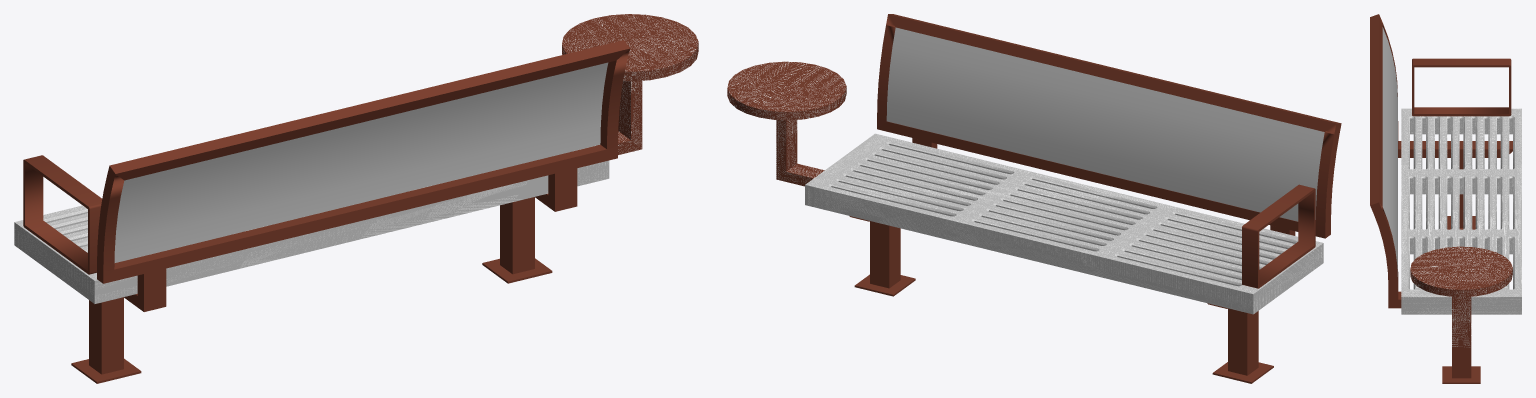
3 views of the same model, side by side, from view 1: azimuth 30°, elevation 25°; view 2: azimuth 150°, elevation 25°; view 3: azimuth 270°, elevation 25° (orthographic). The views are drawn at different scales.
Visible parts, largest first — view 1: mesh21_mesh21-geometry, mesh19_mesh19-geometry, mesh4_mesh4-geometry, mesh10_mesh10-geometry, mesh1_mesh1-geometry, mesh5_mesh5-geometry, mesh11_mesh11-geometry, mesh17_mesh17-geometry, mesh15_mesh15-geometry; view 2: mesh21_mesh21-geometry, mesh4_mesh4-geometry, mesh19_mesh19-geometry, mesh10_mesh10-geometry, mesh1_mesh1-geometry, mesh5_mesh5-geometry, mesh17_mesh17-geometry, mesh15_mesh15-geometry; view 3: mesh4_mesh4-geometry, mesh10_mesh10-geometry, mesh21_mesh21-geometry, mesh19_mesh19-geometry, mesh5_mesh5-geometry, mesh1_mesh1-geometry, mesh15_mesh15-geometry, mesh11_mesh11-geometry.
Boxes of the visible parts, bbox=[...] form: mesh21_mesh21-geometry: bbox=[114, 62, 608, 262]; mesh19_mesh19-geometry: bbox=[103, 40, 629, 283]; mesh4_mesh4-geometry: bbox=[14, 145, 609, 303]; mesh10_mesh10-geometry: bbox=[562, 14, 698, 154]; mesh1_mesh1-geometry: bbox=[71, 197, 552, 383]; mesh5_mesh5-geometry: bbox=[23, 155, 102, 274]; mesh11_mesh11-geometry: bbox=[124, 168, 577, 311]; mesh17_mesh17-geometry: bbox=[97, 166, 124, 283]; mesh15_mesh15-geometry: bbox=[600, 49, 629, 157]; mesh21_mesh21-geometry: bbox=[886, 27, 1324, 221]; mesh4_mesh4-geometry: bbox=[805, 133, 1323, 314]; mesh19_mesh19-geometry: bbox=[877, 14, 1340, 238]; mesh10_mesh10-geometry: bbox=[727, 61, 846, 186]; mesh1_mesh1-geometry: bbox=[854, 221, 1273, 383]; mesh5_mesh5-geometry: bbox=[1242, 184, 1315, 288]; mesh17_mesh17-geometry: bbox=[1315, 123, 1341, 238]; mesh15_mesh15-geometry: bbox=[877, 14, 895, 128]; mesh4_mesh4-geometry: bbox=[1401, 108, 1521, 314]; mesh10_mesh10-geometry: bbox=[1410, 246, 1512, 347]; mesh21_mesh21-geometry: bbox=[1382, 27, 1397, 276]; mesh19_mesh19-geometry: bbox=[1370, 14, 1382, 205]; mesh5_mesh5-geometry: bbox=[1412, 58, 1511, 116]; mesh1_mesh1-geometry: bbox=[1442, 158, 1480, 383]; mesh15_mesh15-geometry: bbox=[1370, 202, 1397, 294]; mesh11_mesh11-geometry: bbox=[1388, 121, 1512, 308].
Bounding box in the file's own units: 0.9034 × 0.3488 × 0.2494.
